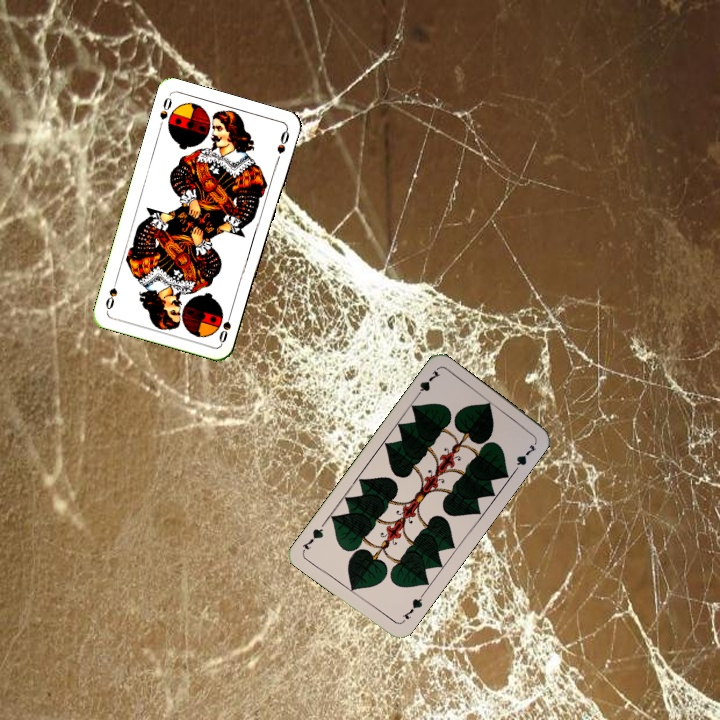G7: (411, 366, 443, 401), (398, 590, 426, 626)
SO: (215, 306, 235, 346), (155, 92, 174, 131)
